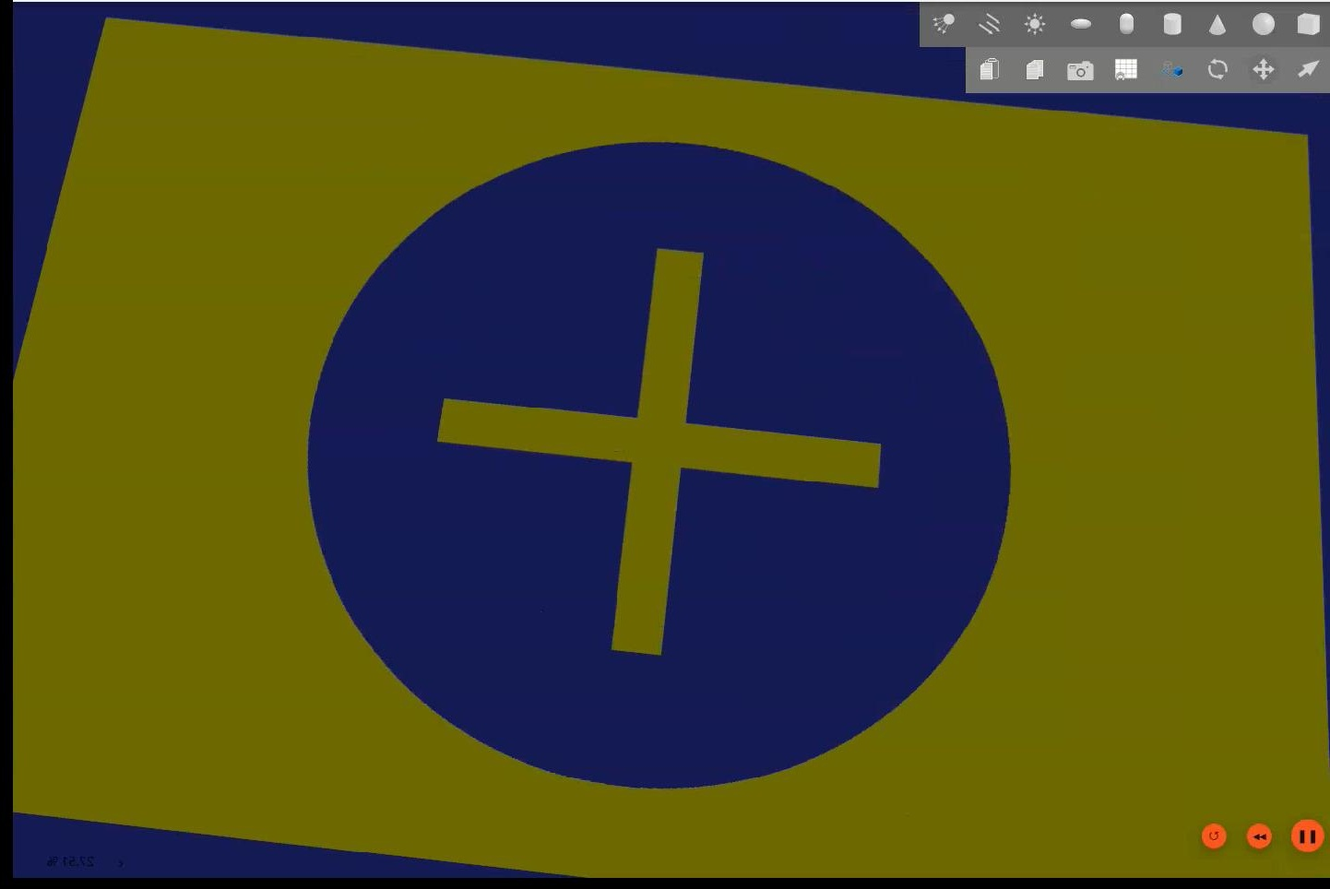large_base: (9, 6, 1328, 889)
